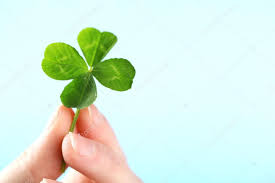4-clover: (42, 28, 135, 111)
